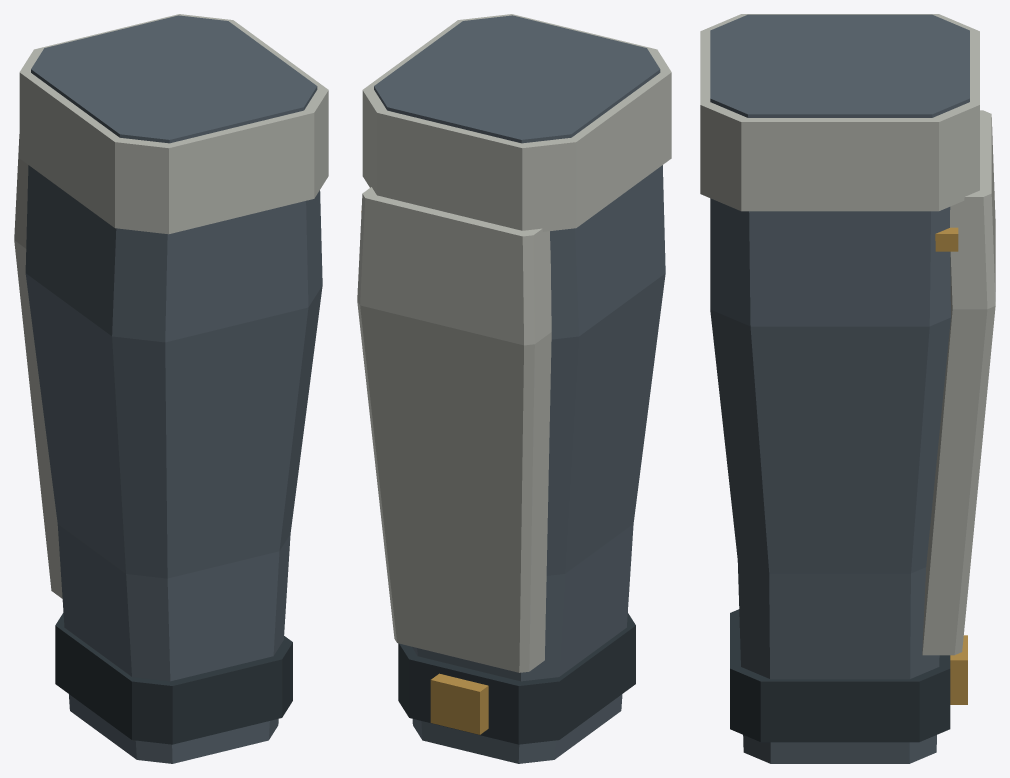
3 views of the same model, side by side, from view 1: azimuth 30°, elevation 25°; view 2: azimuth 150°, elevation 25°; view 3: azimuth 270°, elevation 25° (orthographic). The views are drawn at different scales.
Parts seen in each view (by area): view 1: 现有程序小腿; view 2: 现有程序小腿; view 3: 现有程序小腿.
Part boxes in pixels (x1,y1,x2,y2): 现有程序小腿: (14, 14, 328, 763); 现有程序小腿: (357, 14, 671, 763); 现有程序小腿: (700, 14, 995, 763).
Size of the model in its own units: 0.13 by 0.372 by 0.15.
4 materials, 4 textured.
